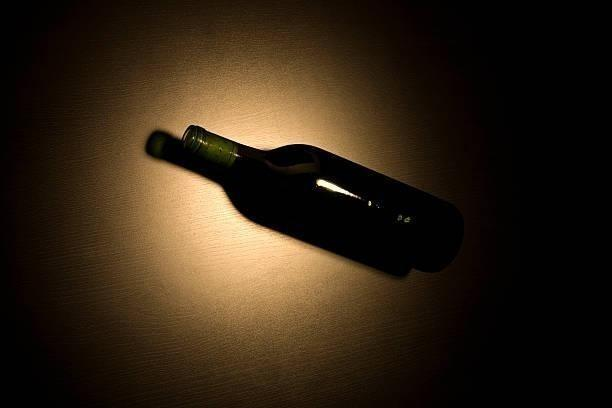bottle-glass: (178, 122, 464, 281)
